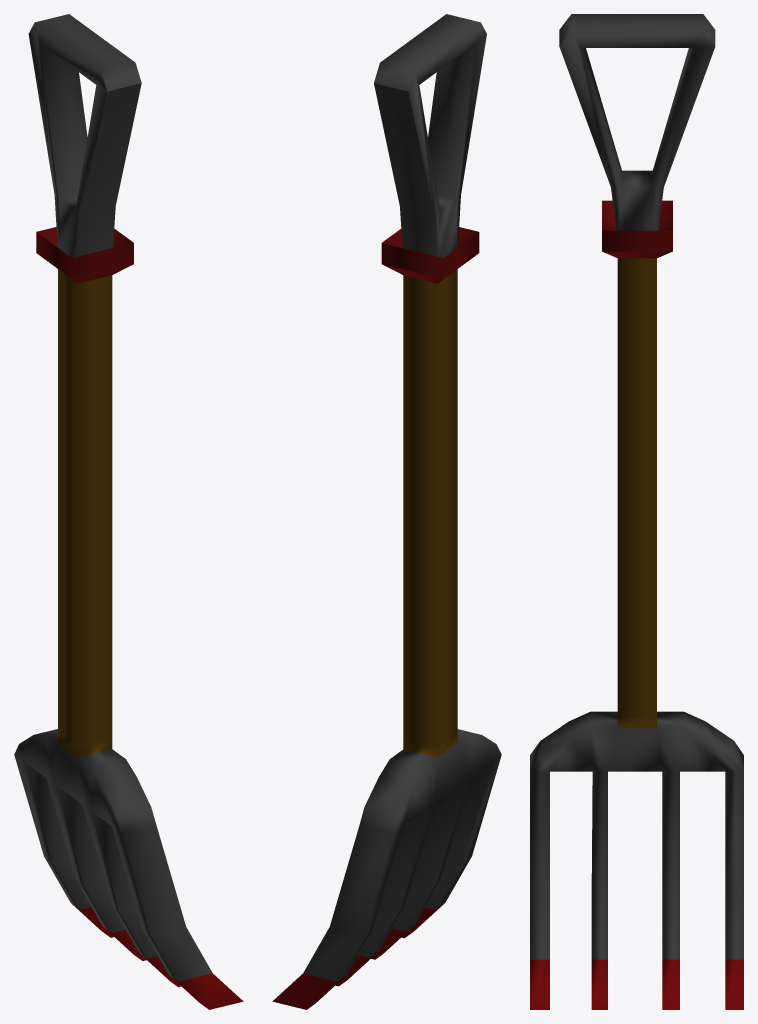
The model's file is PitchFork.fbx.
3 renders of one model, left to right at view 1: azimuth 30°, elevation 25°; view 2: azimuth 150°, elevation 25°; view 3: azimuth 270°, elevation 25°, orthographic.
Visible parts, largest first — view 1: pCube1; view 2: pCube1; view 3: pCube1.
Part boxes in pixels (left/top/right/bottom): pCube1: left=14, top=14, right=243, bottom=1009; pCube1: left=272, top=14, right=501, bottom=1009; pCube1: left=530, top=14, right=743, bottom=1009.
Size of the model in its own units: 3.93 by 26.18 by 5.41.
